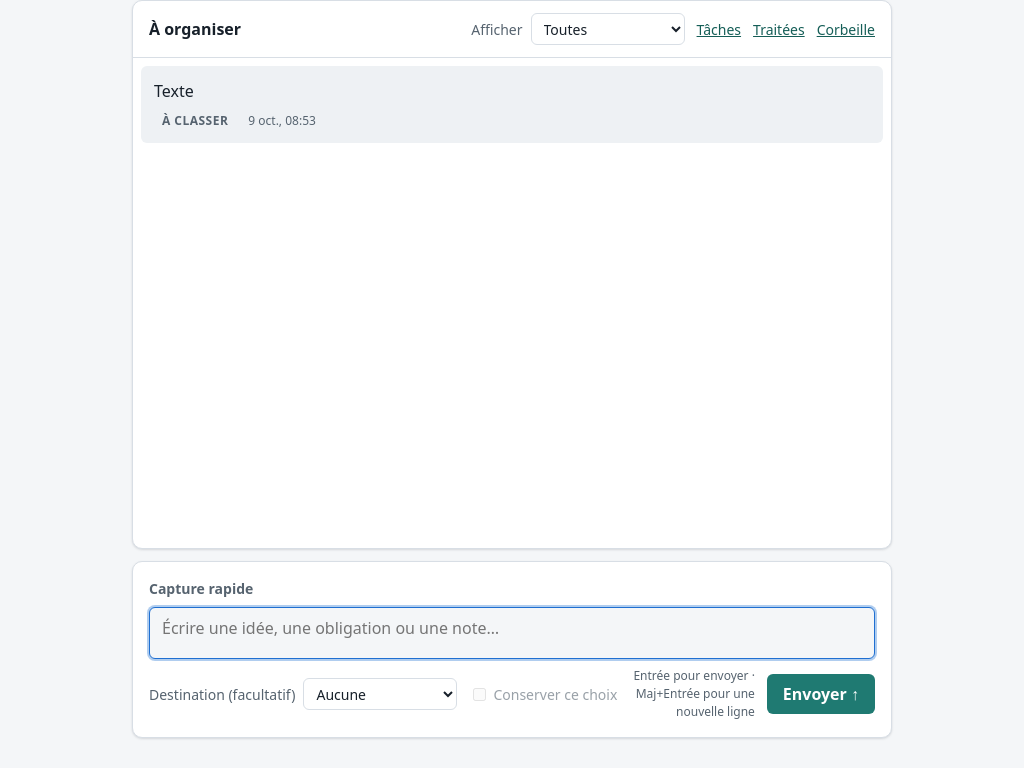
Test: Fermeture de la fenêtre protégée › fiche modifiée → « Abandonner » : fermeture effective, une seule fois, sans nouvelle confirmation
Click the button "Texte À classer 9 oct., 08:53": (174, 91) [142,67,882,142]
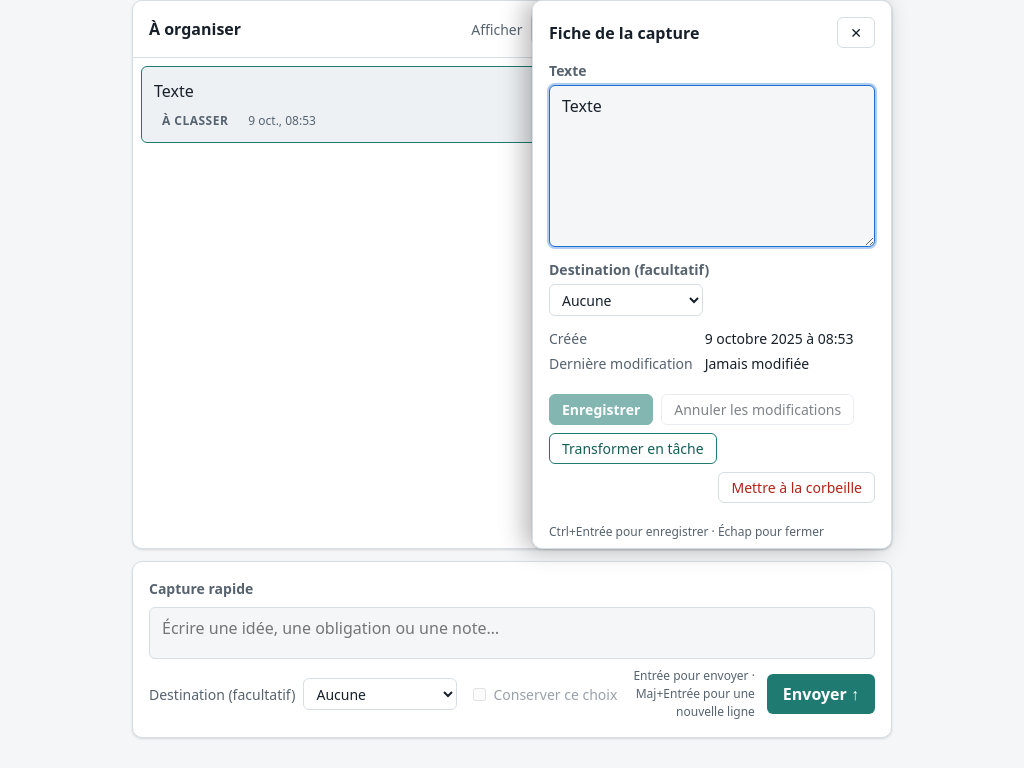
Replace the text in the text box labelled "Texte" with "Jetable": (712, 166) [549,85,875,247]
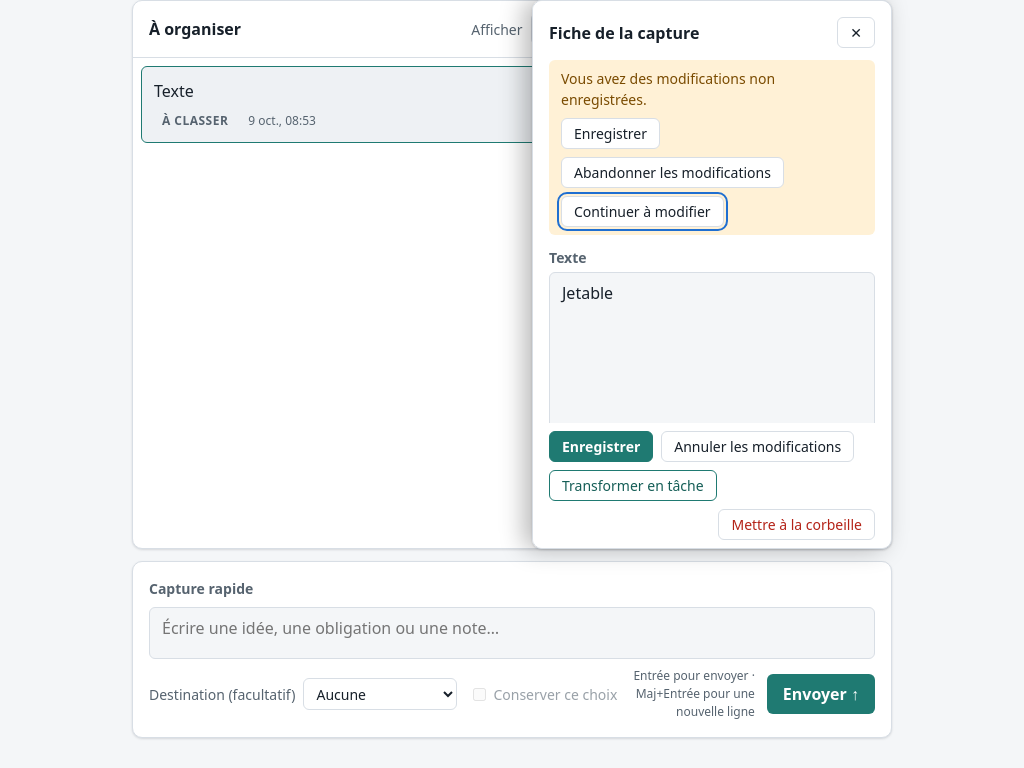
Click the button "Abandonner les modifications": (672, 172) [561,157,784,188]
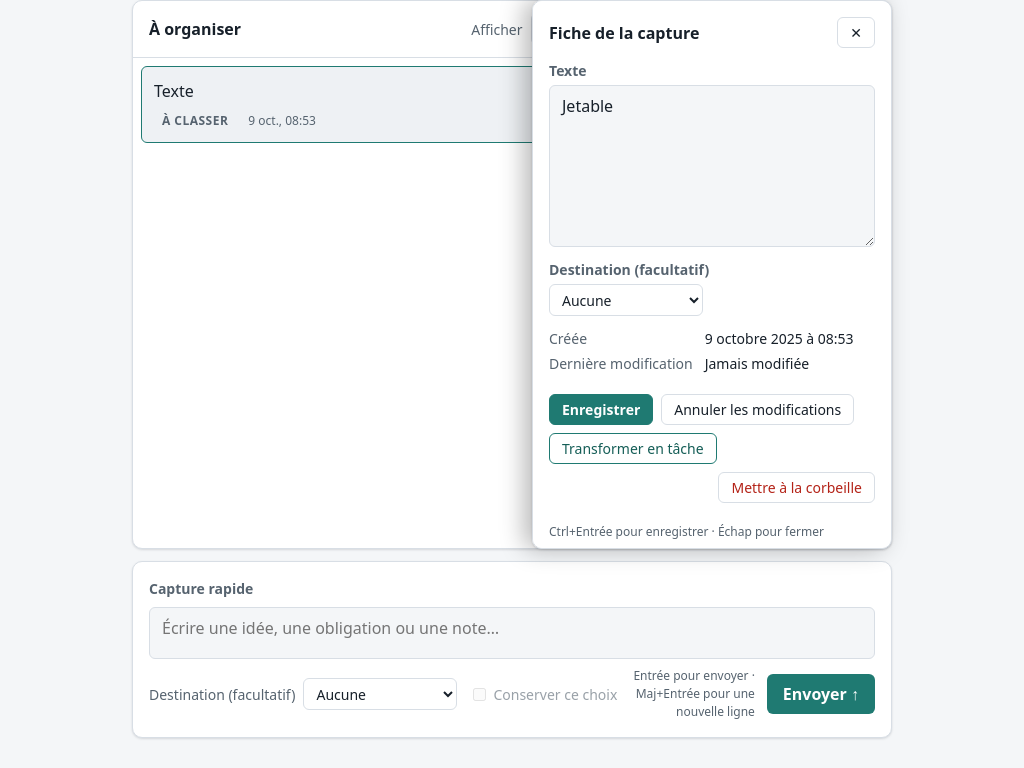
Check: the text "Texte" is shown, box [154,80,194,102]
Check: the text "non enregistrées" is gone
